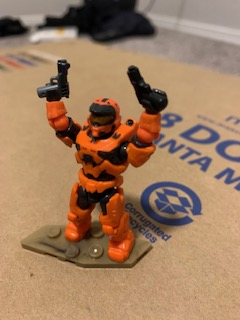pistol: (124, 64, 169, 113), (34, 57, 76, 102)
spartan: (42, 84, 169, 262)
up: (42, 86, 168, 181)
